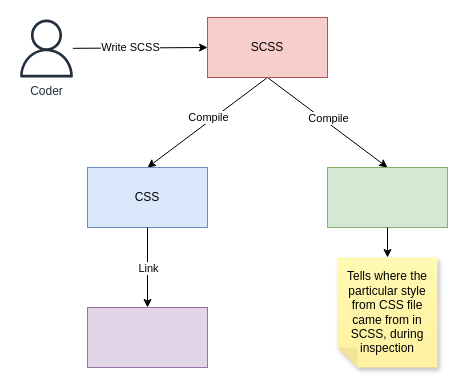
The diagram is 465 pixels wide and 392 high, and some of its shapes have lost their labels. Here are the shapes that lost their labels. From the top down, the centre of each, then its label:
At pixel 387 197: "CSS MAP".
At pixel 147 337: "HTML".
